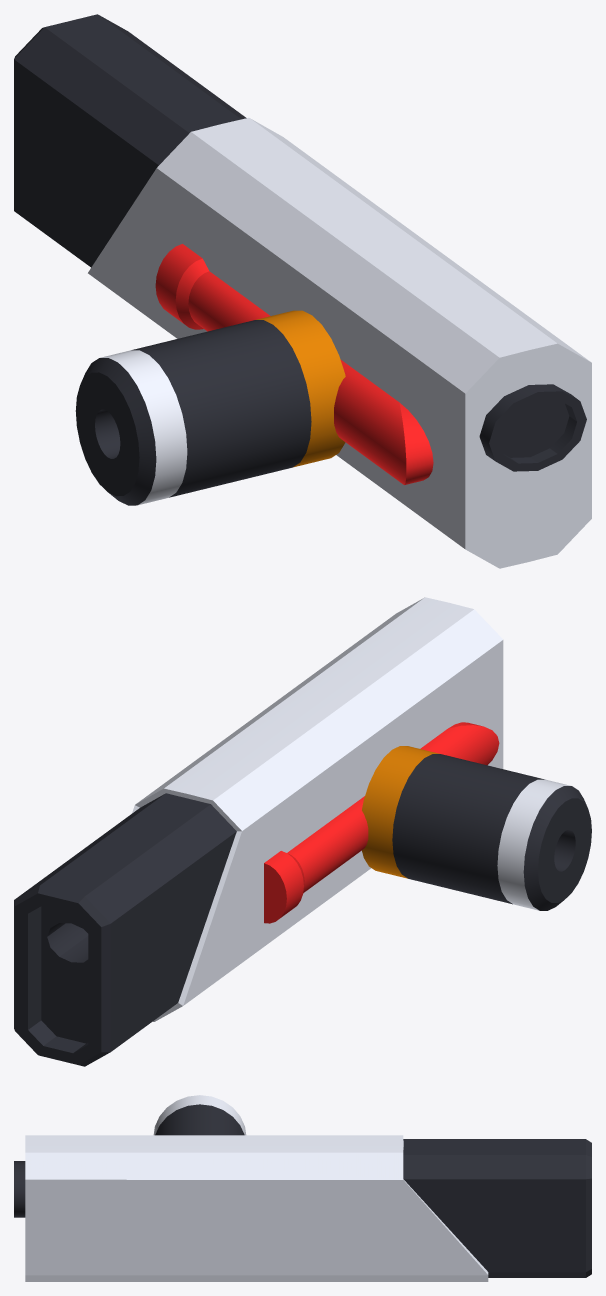
File: Pico_SideLaser.glb
The picture shows the model from 3 angles, top to bottom: view 1: azimuth 30°, elevation 25°; view 2: azimuth 150°, elevation 25°; view 3: azimuth 270°, elevation 25°; orthographic projection. The views are drawn at different scales.
Visible parts, largest first — view 1: mergedBlocks(Clone); view 2: mergedBlocks(Clone); view 3: mergedBlocks(Clone).
Part boxes in pixels (left/top/right/bottom): mergedBlocks(Clone): left=14, top=14, right=591, bottom=568; mergedBlocks(Clone): left=14, top=597, right=591, bottom=1066; mergedBlocks(Clone): left=14, top=1095, right=591, bottom=1281.
Size of the model in its own units: 1.55 by 0.9203 by 3.72.
1 material, 1 textured.
